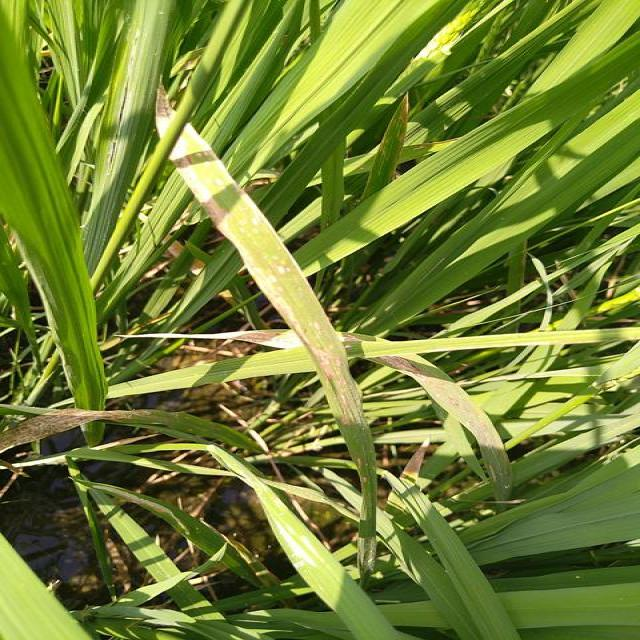Leaf Streak: (169, 124, 377, 540), (367, 356, 512, 500), (0, 407, 253, 453), (113, 329, 297, 350), (381, 93, 408, 181), (155, 86, 176, 138), (339, 332, 377, 344)
